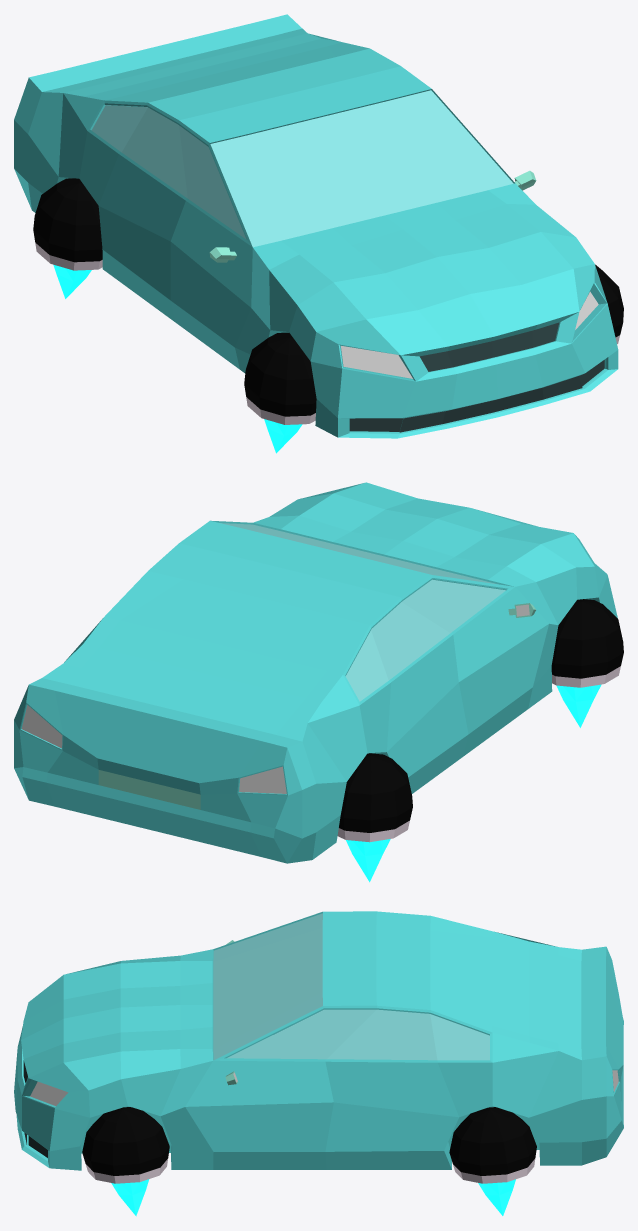
The model's file is FloatingCar.fbx.
3 views of the same model, one above another, from view 1: azimuth 30°, elevation 25°; view 2: azimuth 150°, elevation 25°; view 3: azimuth 270°, elevation 25° (orthographic). The views are drawn at different scales.
Visible parts, largest first — view 1: FloatingCar; view 2: FloatingCar; view 3: FloatingCar.
Part boxes in pixels (box(x1,y1,x2,y2)): FloatingCar: box(14, 14, 623, 453); FloatingCar: box(14, 482, 623, 882); FloatingCar: box(14, 911, 623, 1216).
Size of the model in its own units: 263 by 153 by 438.
